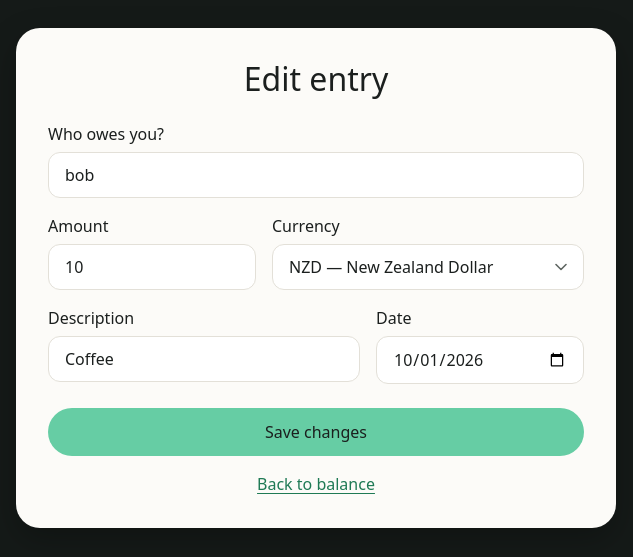
Test: EditIndividualDebt › shows a form-level error from the server
Expected: the number field labelled "Amount" is shown, [48,244,256,290]
Click the button "Save changes": [316, 432] box [48,408,584,456]
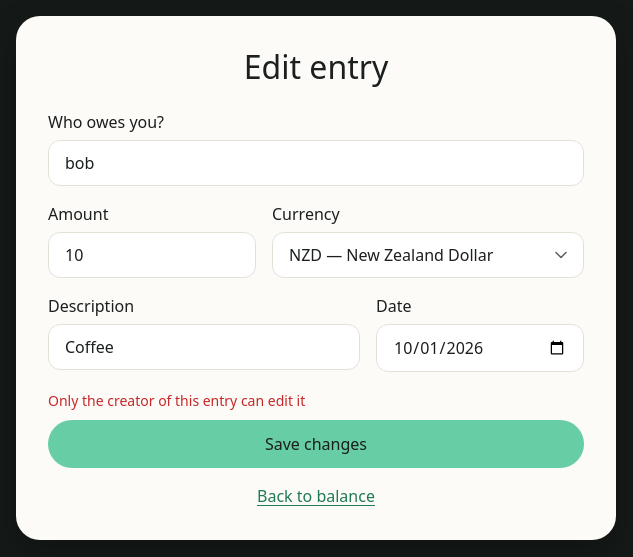
Result: the text "Only the creator of this entry can edit it" is shown at [48,391,305,410]
